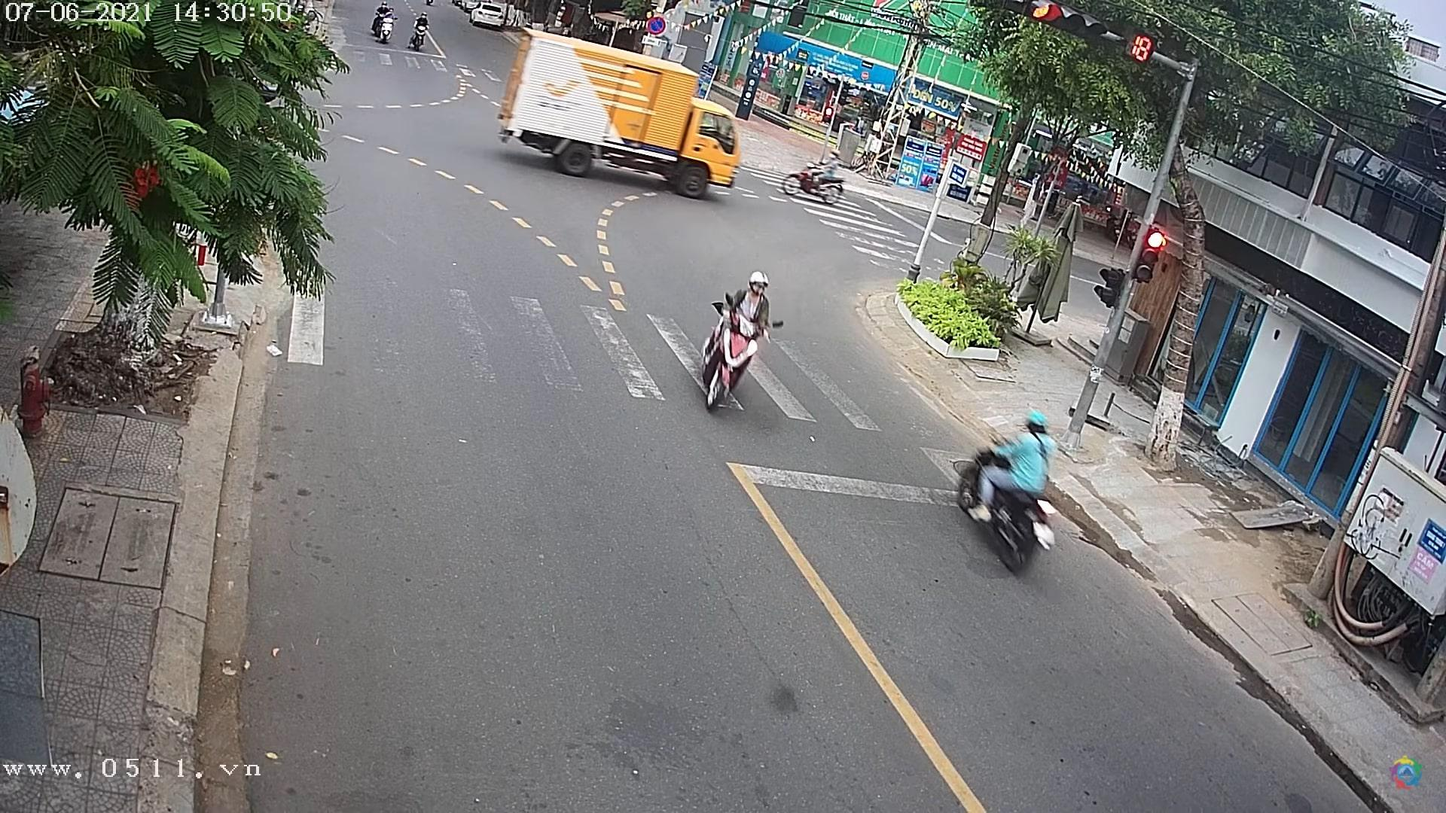car: (467, 5, 510, 29)
motorbike: (699, 300, 764, 408)
